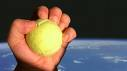tennis ball: (26, 19, 63, 56)
